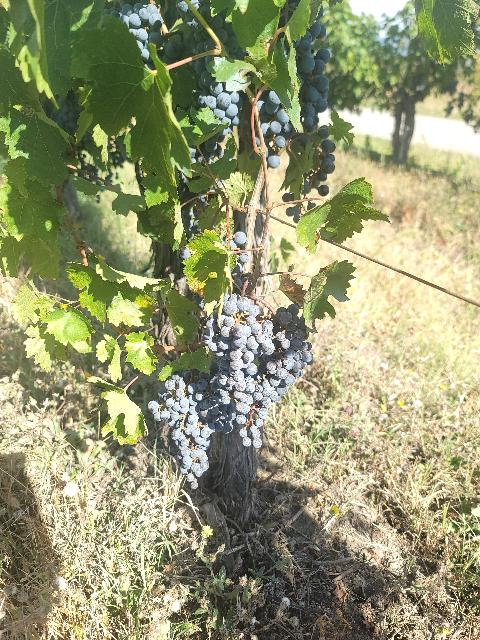grapes: (244, 304, 314, 449), (149, 374, 214, 489), (202, 294, 272, 375), (188, 390, 235, 432)
